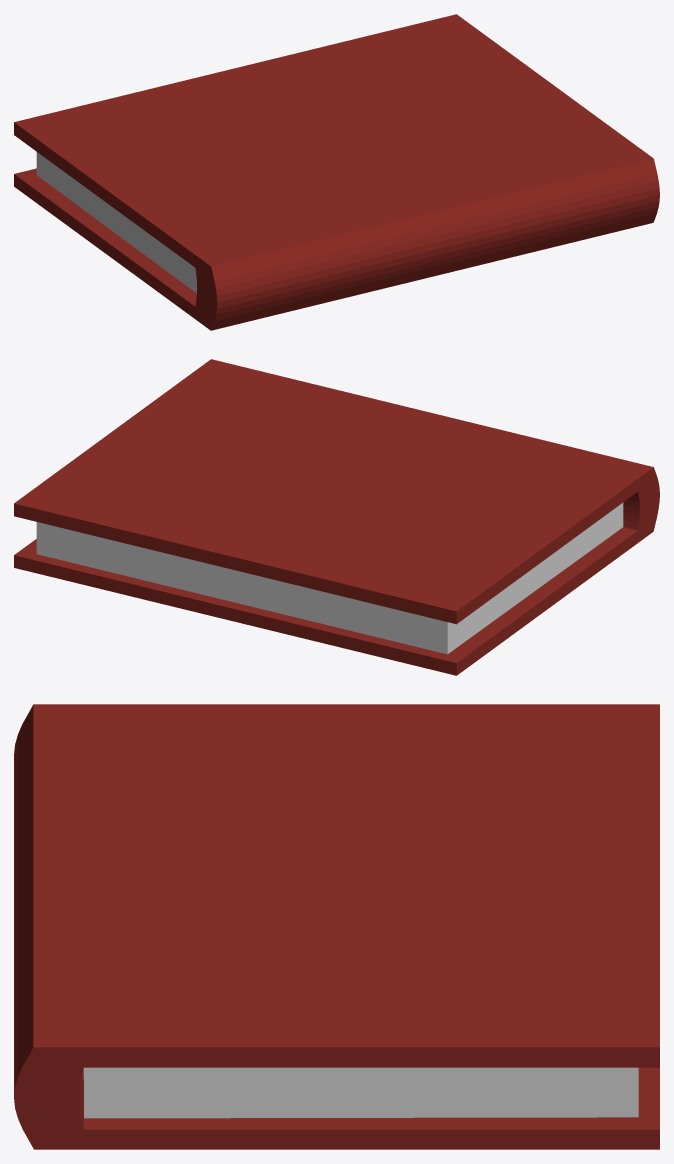
The model's file is book.fbx.
3 renders of one model, top to bottom at view 1: azimuth 30°, elevation 25°; view 2: azimuth 150°, elevation 25°; view 3: azimuth 270°, elevation 25°, orthographic. The views are drawn at different scales.
Parts seen in each view (by area): view 1: Cube; view 2: Cube; view 3: Cube.
Part boxes in pixels (<box>): Cube: <box>14,14,659,330</box>; Cube: <box>14,359,659,675</box>; Cube: <box>14,704,659,1149</box>.
Bounding box in the file's own units: 210 × 29.2 × 167.
